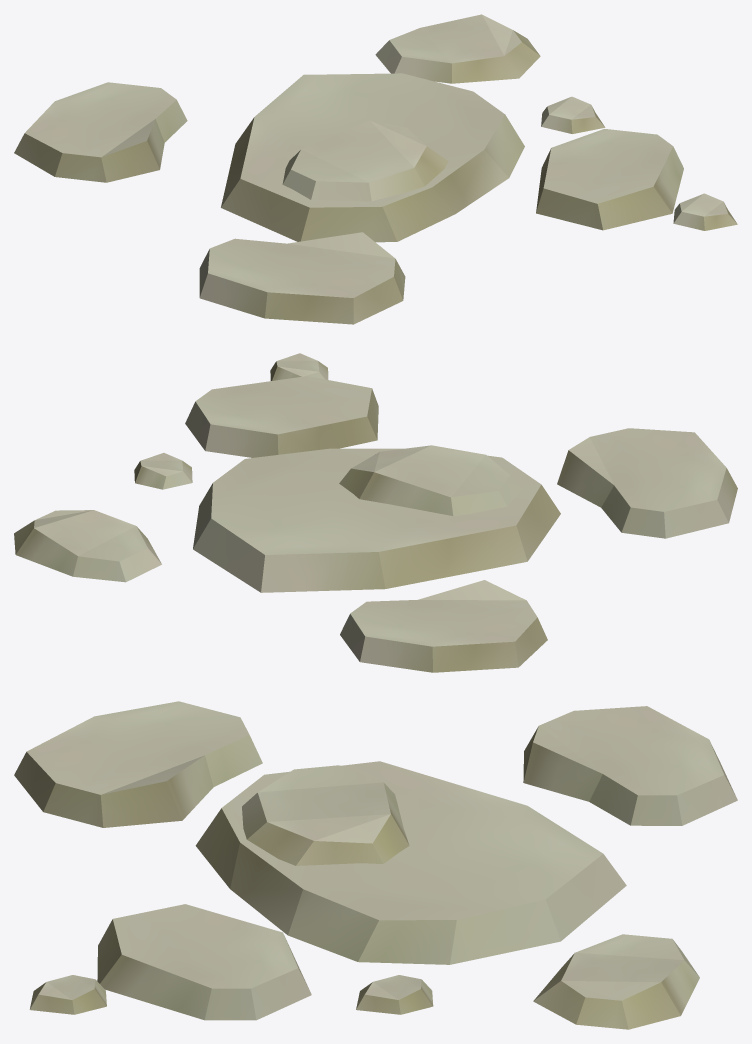
The model's file is Rocks_Decal_2.fbx.
3 renders of one model, top to bottom at view 1: azimuth 30°, elevation 25°; view 2: azimuth 150°, elevation 25°; view 3: azimuth 270°, elevation 25°, orthographic. The views are drawn at different scales.
Visible parts, largest first — view 1: Rocks_Decal_2; view 2: Rocks_Decal_2; view 3: Rocks_Decal_2.
Part boxes in pixels (x1,y1,x2,y2): Rocks_Decal_2: [14, 14, 737, 324]; Rocks_Decal_2: [14, 353, 737, 672]; Rocks_Decal_2: [14, 701, 737, 1029].
Size of the model in its own units: 0.9376 by 0.0891 by 0.9318.
